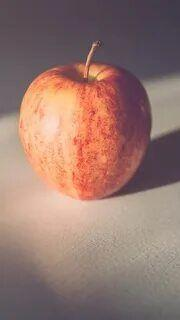Apple: (18, 64, 152, 199)
